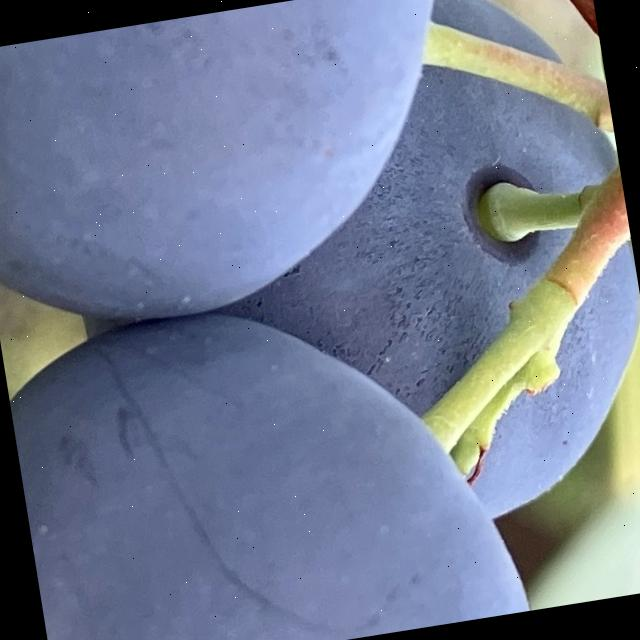Blueberries: (0, 266, 538, 640), (0, 0, 497, 336)
